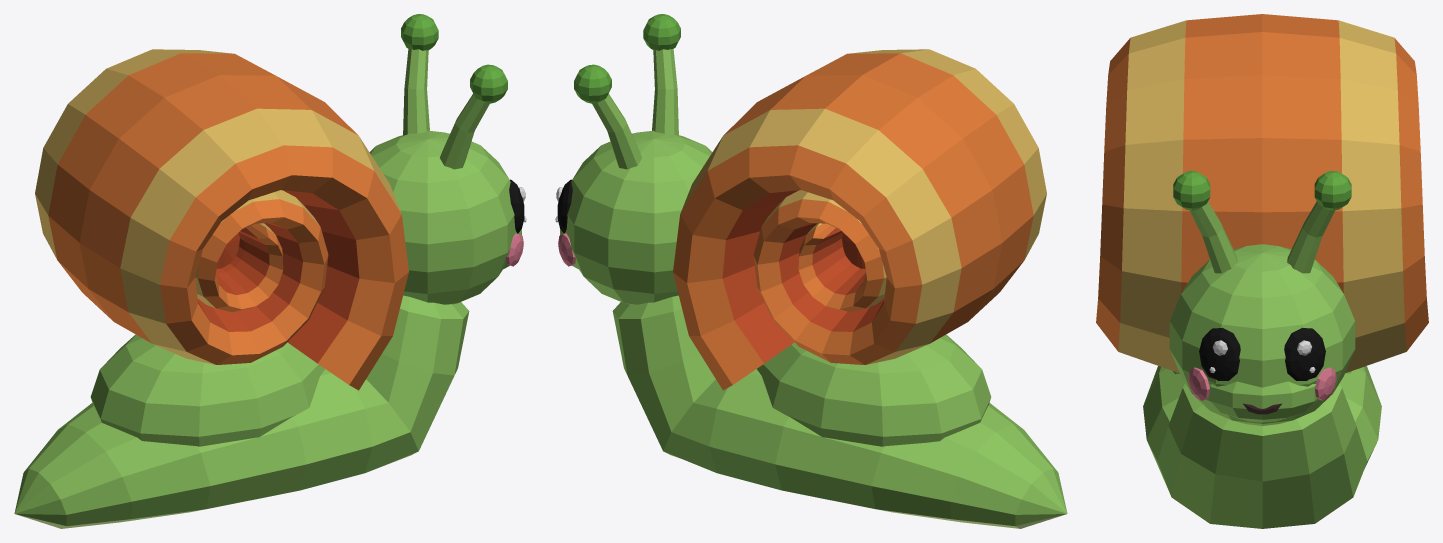
Rendered from snail.glb.
3 views of the same model, side by side, from view 1: azimuth 30°, elevation 25°; view 2: azimuth 150°, elevation 25°; view 3: azimuth 270°, elevation 25° (orthographic).
Parts seen in each view (by area): view 1: shell, body, head; view 2: shell, body, head; view 3: shell, head, body.
Boxes of the visible parts, x1,y1,x2,y2 form: shell: [35, 49, 408, 390]; body: [14, 295, 469, 528]; head: [369, 14, 526, 304]; shell: [673, 49, 1046, 390]; body: [612, 295, 1067, 528]; head: [555, 14, 712, 304]; shell: [1096, 14, 1428, 372]; head: [1169, 170, 1355, 425]; body: [1143, 366, 1381, 528].
Size of the model in its own units: 1.62 by 1.26 by 0.92.
